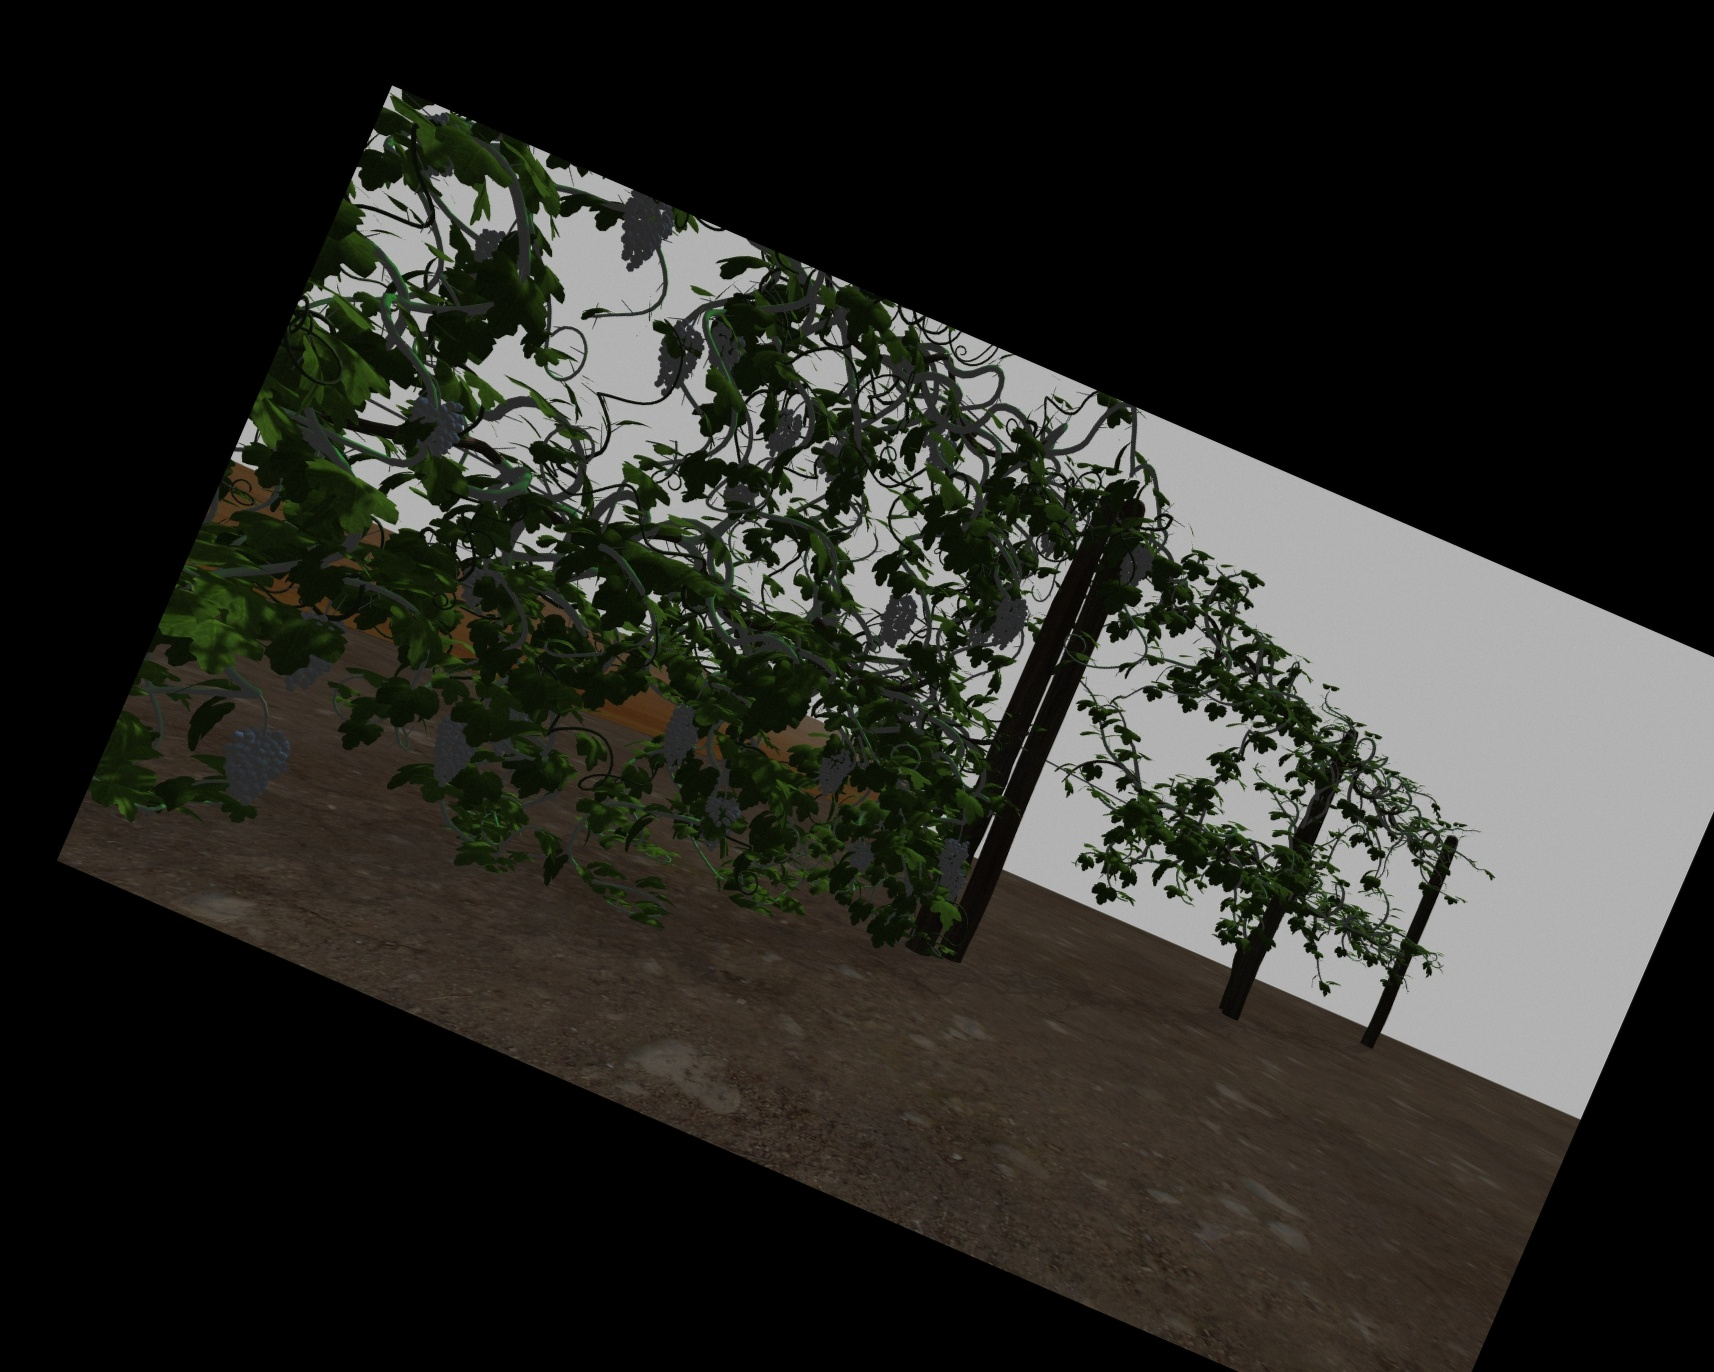grape: (220, 725, 281, 802), (403, 393, 459, 466), (616, 202, 665, 270), (428, 715, 473, 785), (655, 325, 697, 395), (662, 708, 697, 766), (879, 594, 914, 647), (991, 598, 1024, 650), (709, 325, 744, 372), (766, 410, 800, 459), (816, 748, 849, 797), (1120, 542, 1150, 587), (703, 794, 738, 827), (940, 839, 966, 876), (847, 844, 874, 869), (938, 872, 962, 900)
